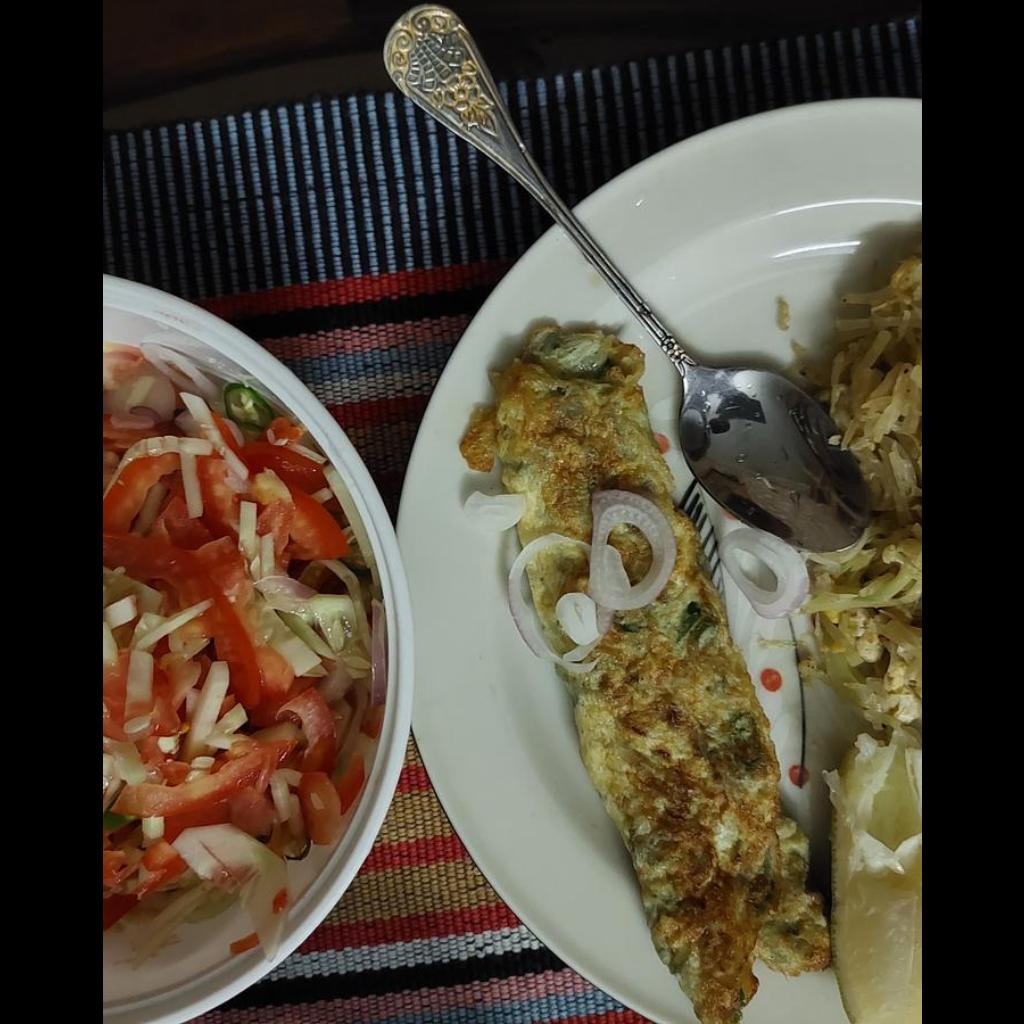cabbage: (806, 254, 920, 743)
egg-poached: (460, 326, 827, 1020)
lemon: (829, 741, 920, 1019)
salad: (104, 352, 383, 962)
